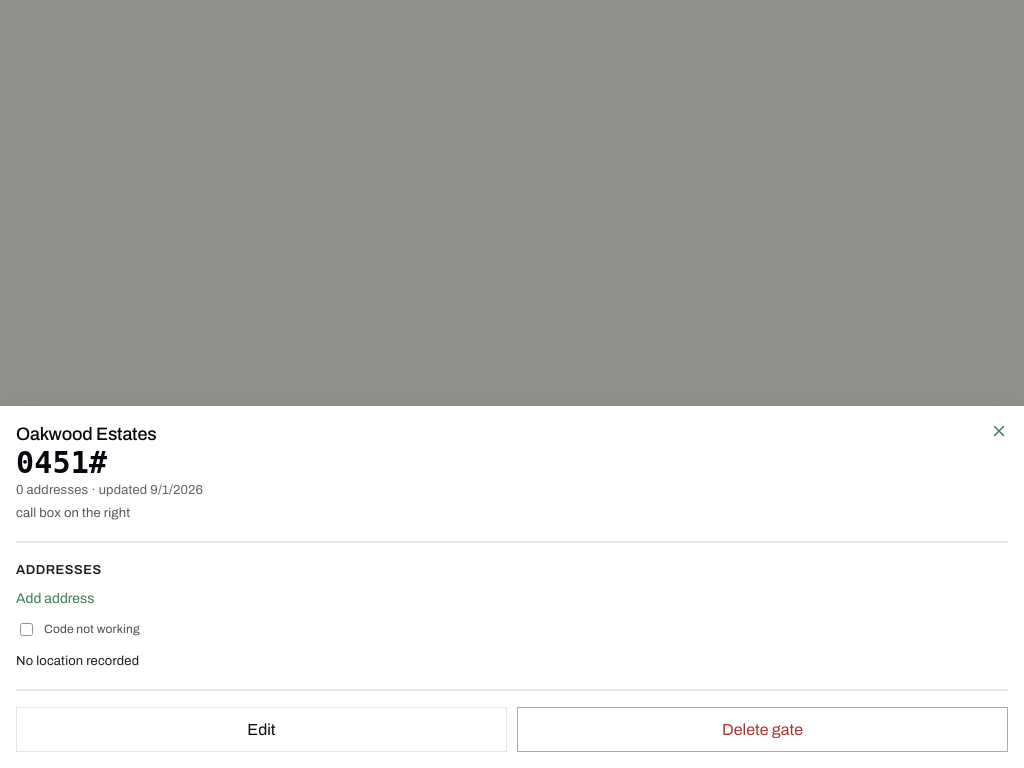
it: GateDetailSheet › opens an edit form pre-filled with name, code, and notes
Click the button "Edit": point(262, 729) [16, 707, 507, 752]
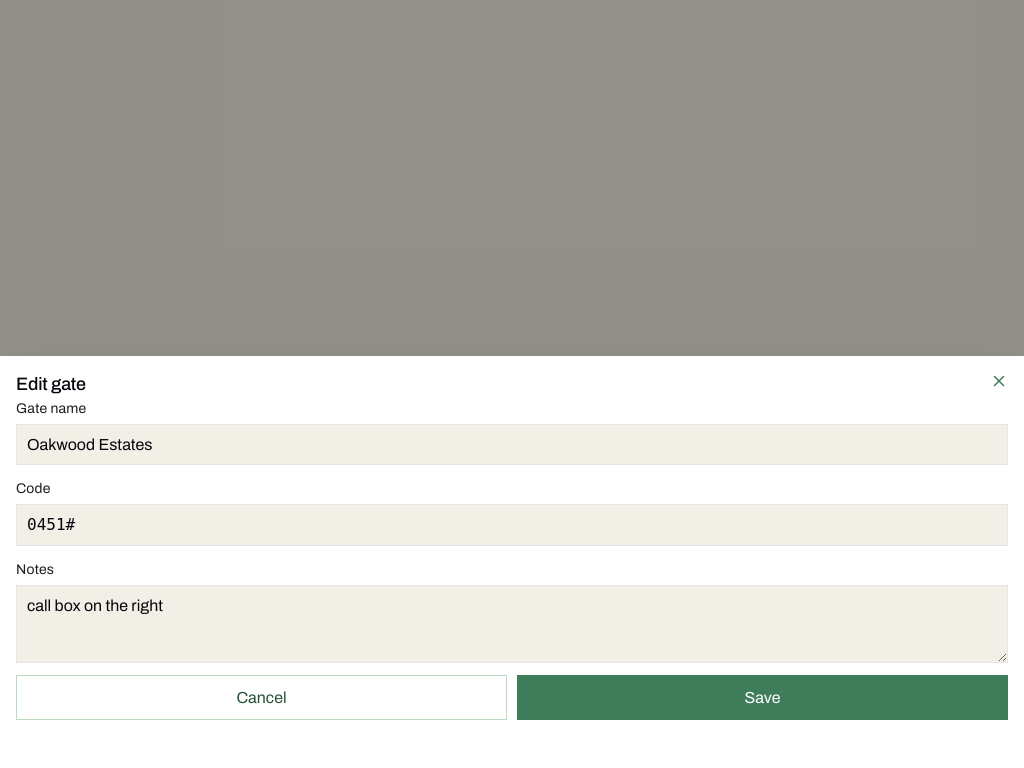
Expected: the field labelled "Gate name" holds "Oakwood Estates", [16, 424, 1008, 465]
Expected: the field labelled "Code" holds "0451#", [16, 504, 1008, 546]
Expected: the text box labelled "Notes" holds "call box on the right", [16, 585, 1008, 663]
